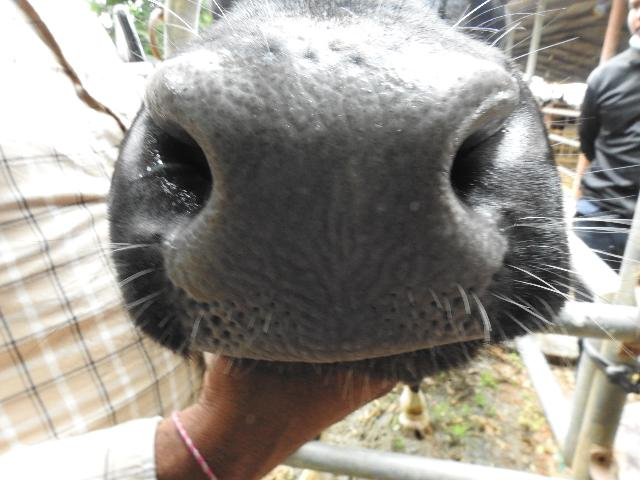Muzzle: (165, 66, 500, 354)
